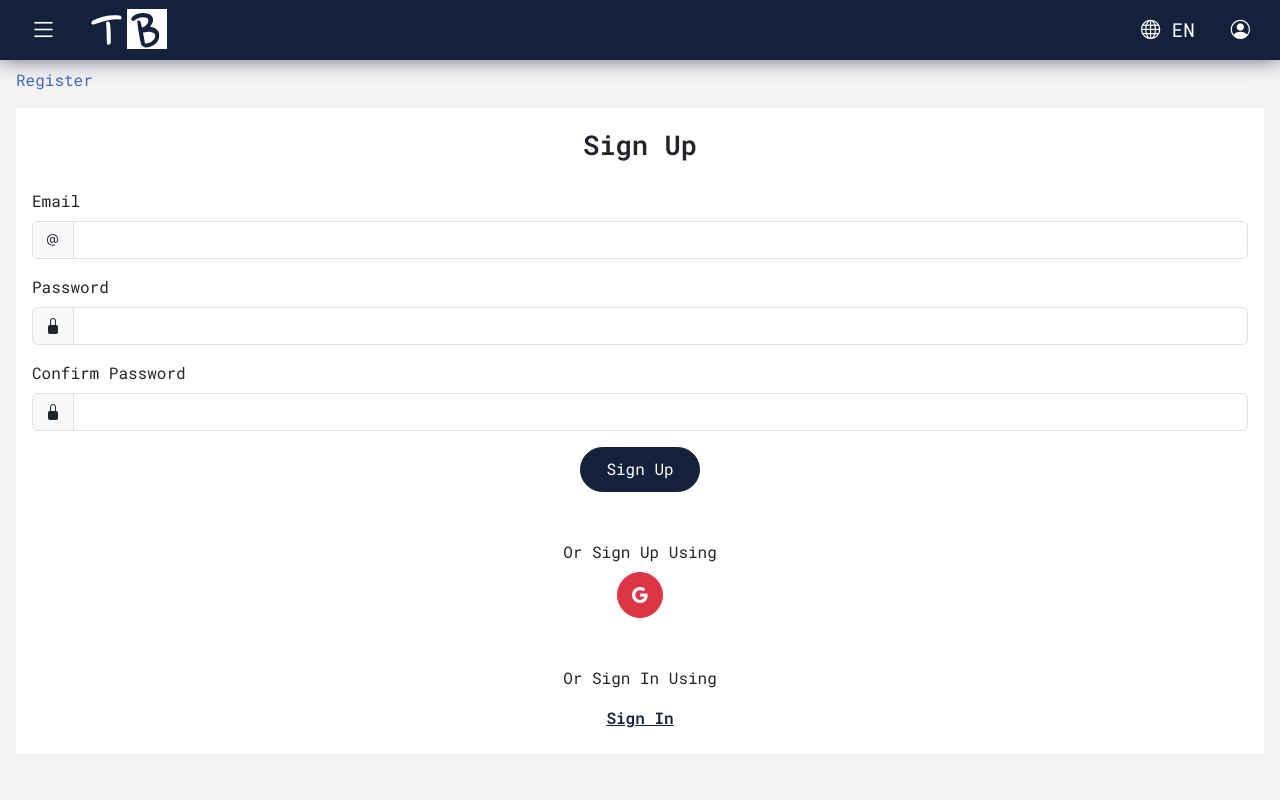
RegisterView › submit invalid registration form
In the field with id "login-input-email": x=660, y=240 [73, 221, 1248, 259], type "mmm@"
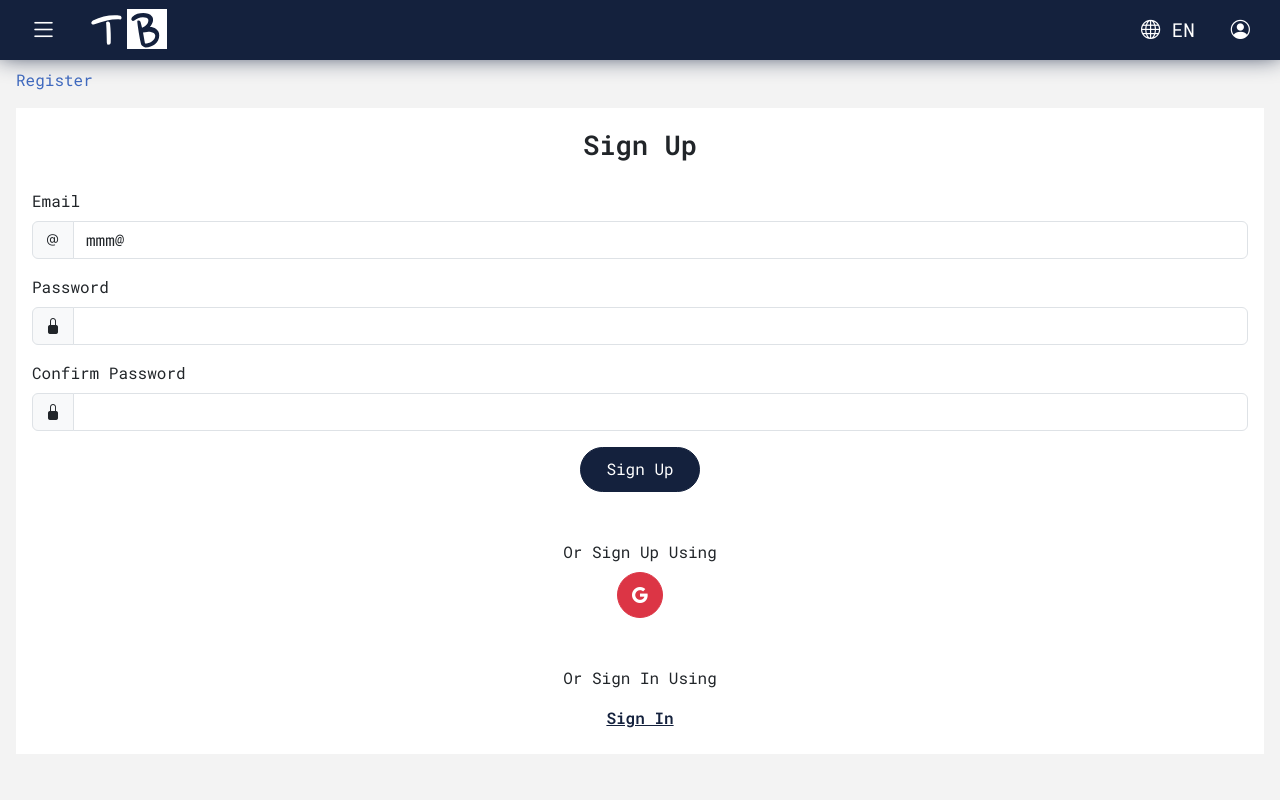
In the password field with id "login-input-password": x=660, y=326 [73, 307, 1248, 345], type "hell0wor1d!"
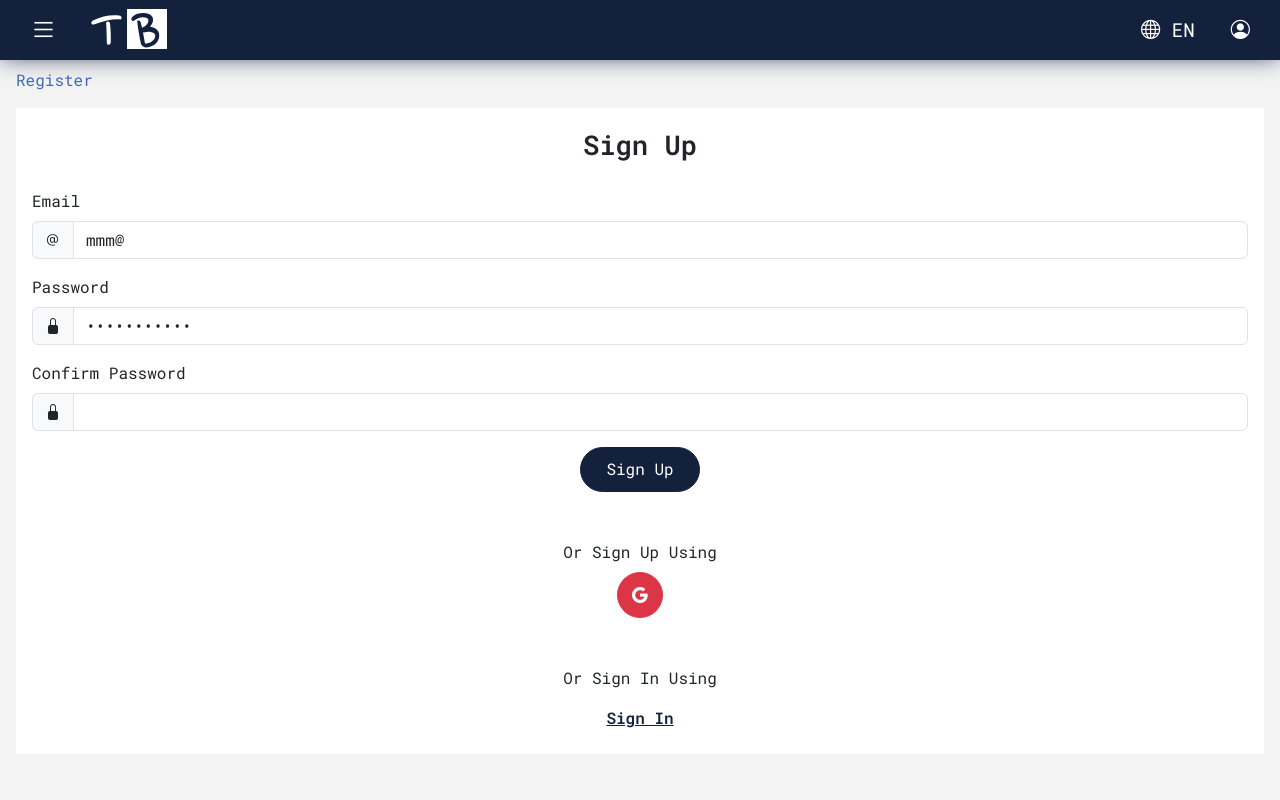
In the password field with id "login-input-password-confirm": x=660, y=412 [73, 393, 1248, 431], type "mismatch"
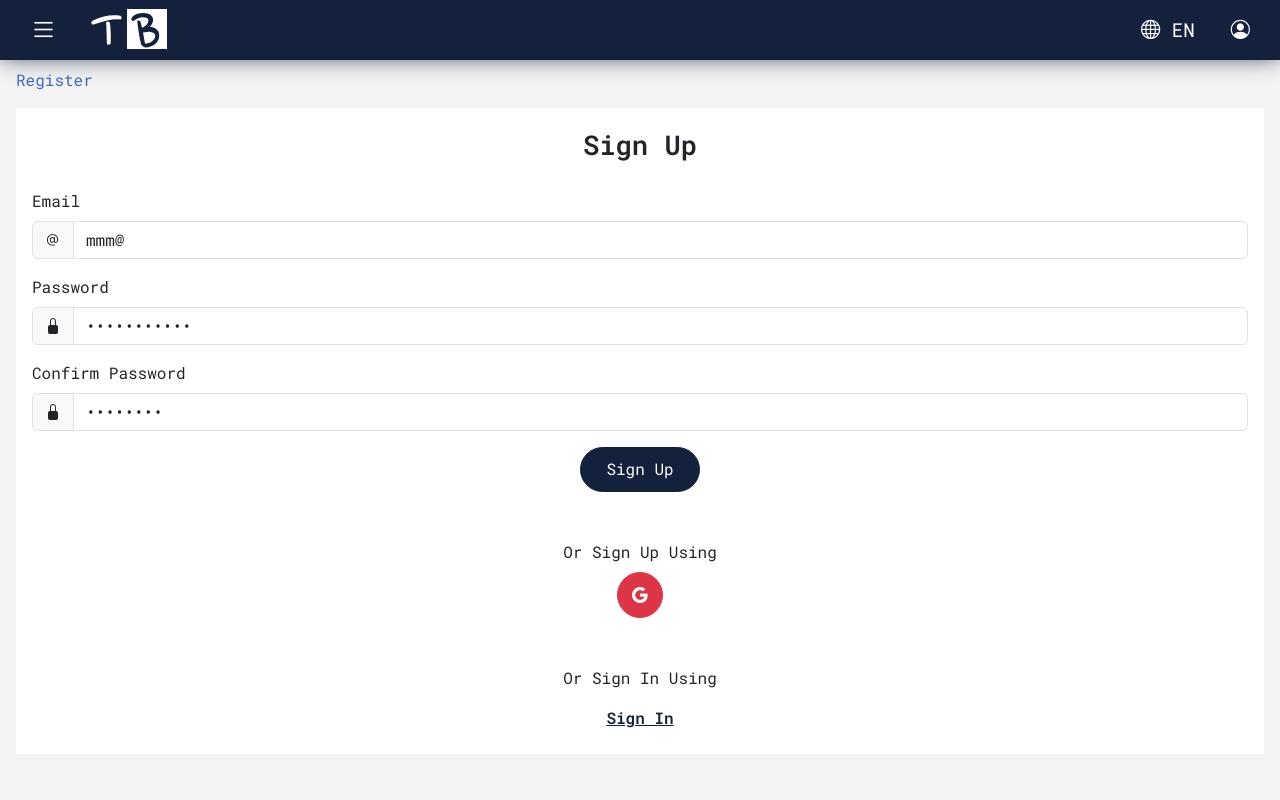
Click the button "Sign Up": x=640, y=469 [580, 447, 700, 492]
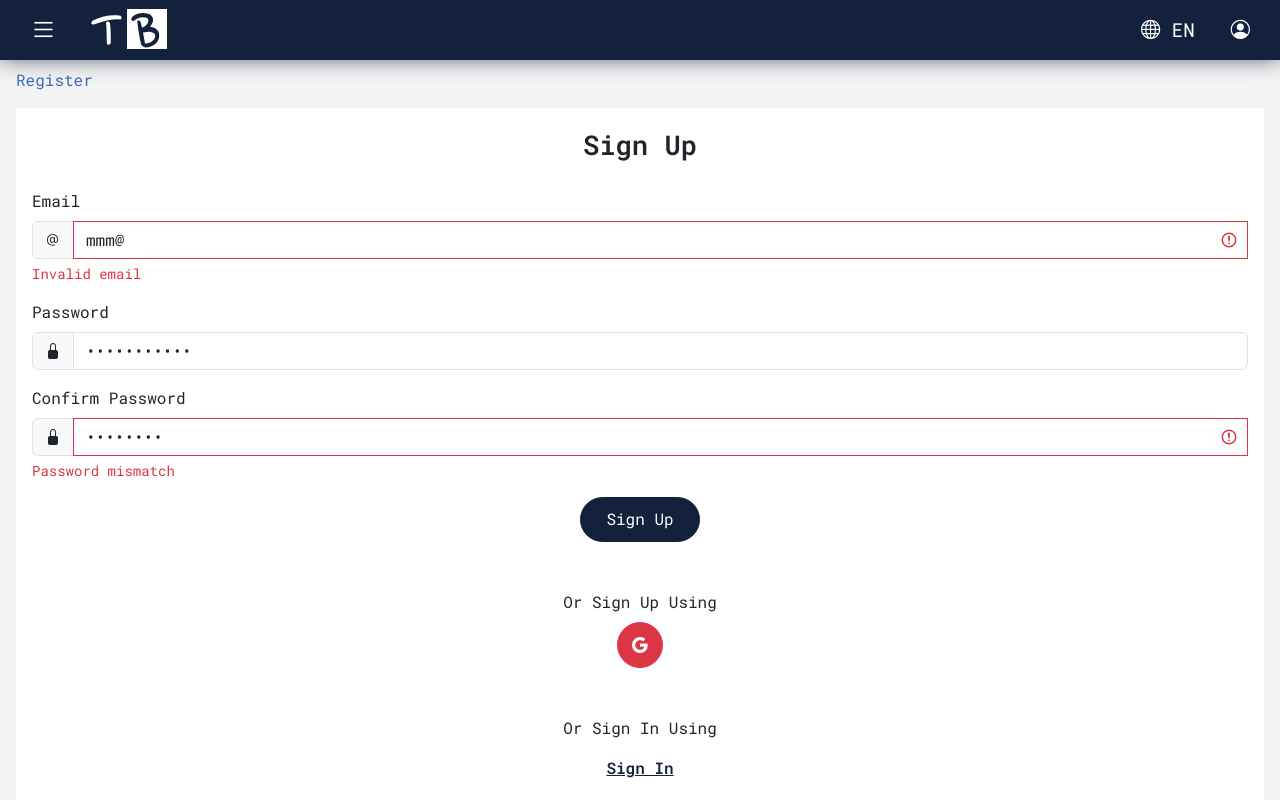
expect the text with class "invalid-feedback" reads "Invalid email": met, box [32, 264, 141, 283]
expect the text with class "invalid-feedback" reads "Password mismatch": met, box [32, 461, 175, 480]
